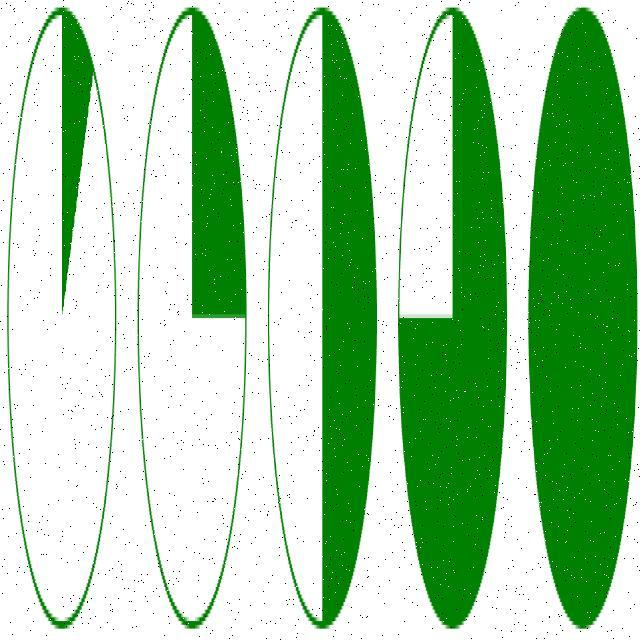Circle: (529, 7, 636, 623)
